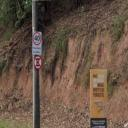speed_limit_40: (33, 32, 41, 46)
